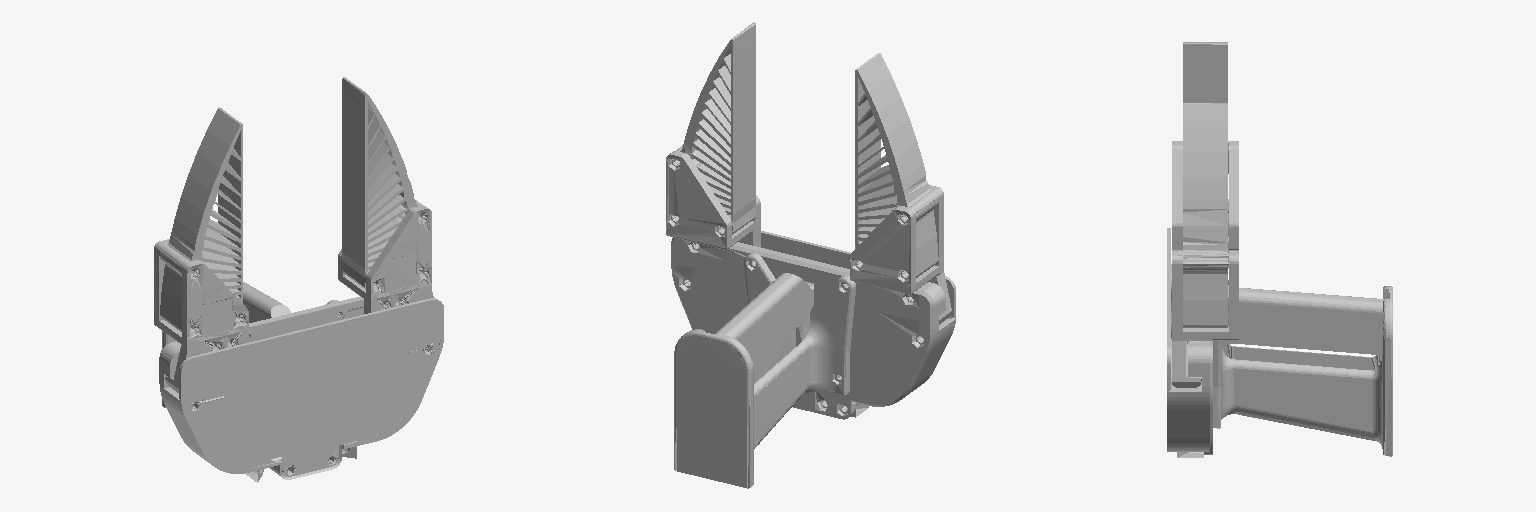
Rendered from simplified_gripper.obj.
3 renders of one model, left to right at view 1: azimuth 30°, elevation 25°; view 2: azimuth 150°, elevation 25°; view 3: azimuth 270°, elevation 25°, orthographic.
Visible parts, largest first — view 1: mesh384; view 2: mesh384; view 3: mesh384.
Boxes of the visible parts, box(x1,y1,x2,y2) form: mesh384: box(154, 77, 443, 482); mesh384: box(666, 22, 955, 488); mesh384: box(1167, 42, 1392, 457).
Size of the model in its own units: 0.172 by 0.2284 by 0.1283.